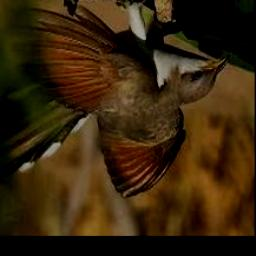Cuckoo: (0, 2, 230, 199)
